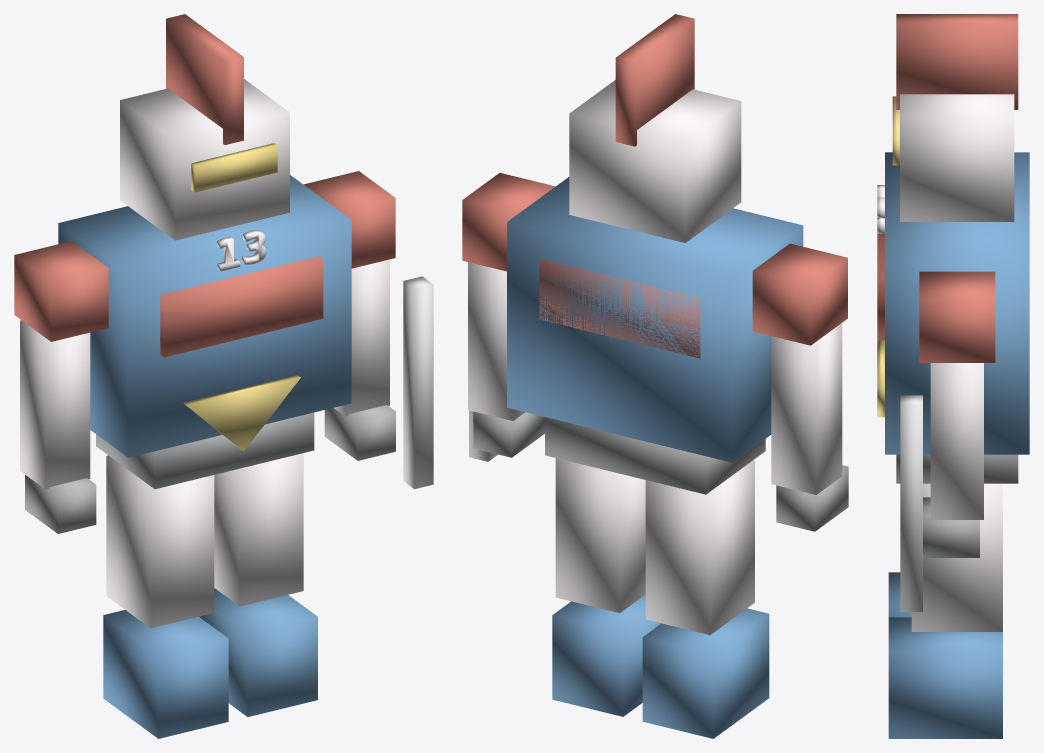
File: japanese-toy-robot.glb
3 views of the same model, side by side, from view 1: azimuth 30°, elevation 25°; view 2: azimuth 150°, elevation 25°; view 3: azimuth 270°, elevation 25° (orthographic). The views are drawn at different scales.
Visible parts, largest first — view 1: part0, part18; view 2: part0; view 3: part0, part18.
Boxes of the visible parts, x1=… form: part0: x1=14, y1=14, x2=395, y2=738; part18: x1=403, y1=276, x2=433, y2=489; part0: x1=462, y1=14, x2=848, y2=738; part0: x1=877, y1=14, x2=1029, y2=738; part18: x1=900, y1=395, x2=922, y2=611.
Bounding box in the file's own units: 0.5939 × 1 × 0.203.
2 materials, 2 textured.
